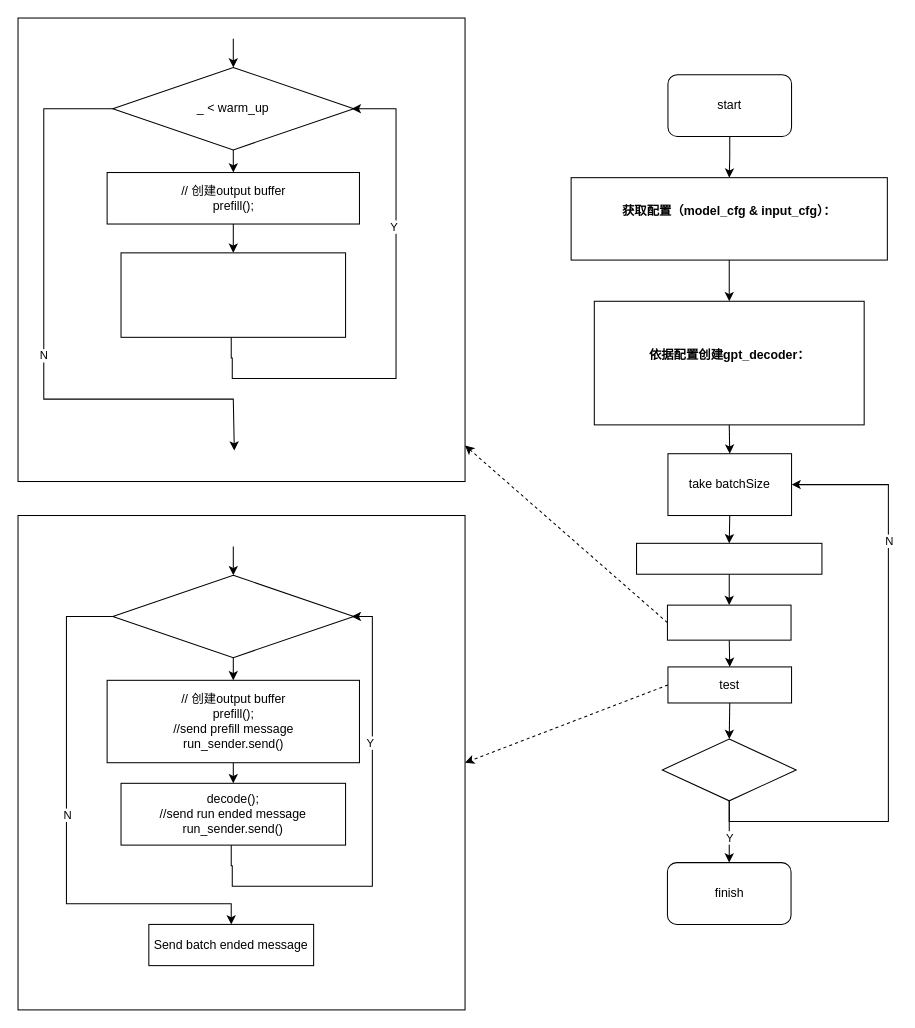
This 915x1028 diagram has some shape labels left out. The centre of each missing label's shape, as x and y in pixels:
"_ < n_runs" goes at (x=233, y=616).
"decode(); //send warmup message run_sender.send()" goes at (x=233, y=294).
"last batchSize" goes at (x=728, y=769).
"prepare input buffer" goes at (x=729, y=558).
"warm_up" goes at (x=728, y=622).
